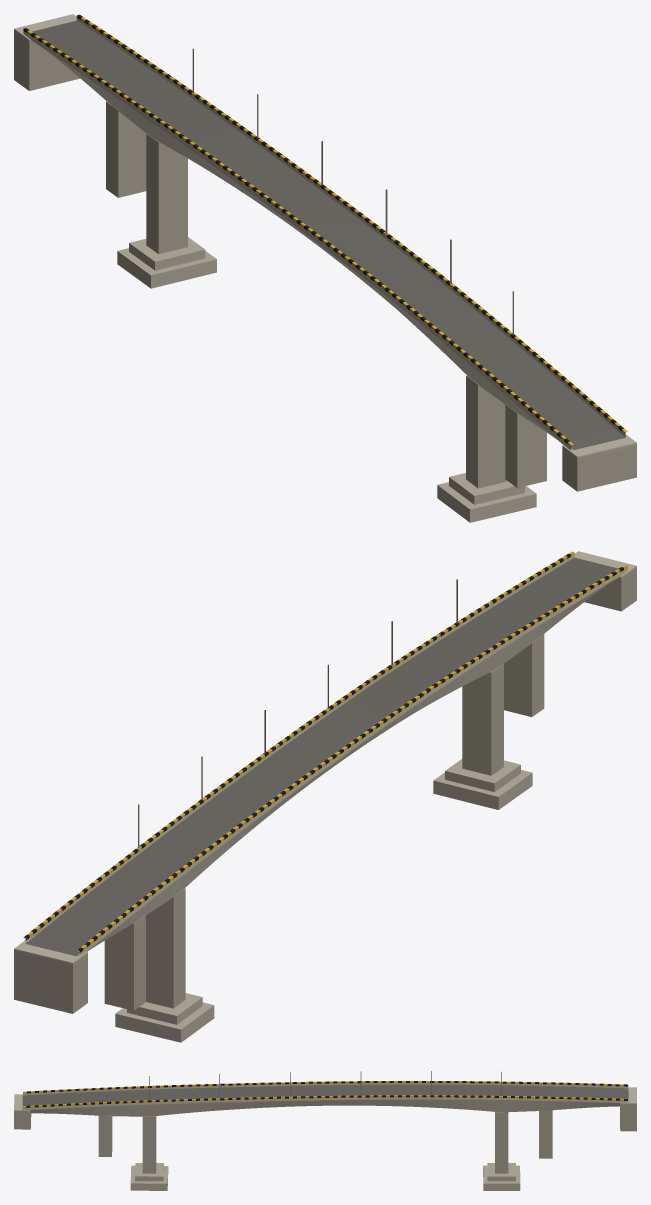
Rendered from kohala_bridge.glb.
3 renders of one model, top to bottom at view 1: azimuth 30°, elevation 25°; view 2: azimuth 150°, elevation 25°; view 3: azimuth 270°, elevation 25°, orthographic. The views are drawn at different scales.
Parts seen in each view (by area): view 1: m_road_surface, m_pier_concrete, m_plinth_concrete, m_girder_concrete, m_parapet, m_hazard_black, m_hazard_yellow; view 2: m_road_surface, m_pier_concrete, m_girder_concrete, m_plinth_concrete, m_parapet, m_hazard_black, m_hazard_yellow; view 3: m_road_surface, m_girder_concrete, m_pier_concrete, m_parapet, m_hazard_black, m_hazard_yellow, m_plinth_concrete.
Boxes of the visible parts, bbox=[...] form: m_road_surface: bbox=[32, 20, 624, 449]; m_pier_concrete: bbox=[14, 30, 636, 491]; m_plinth_concrete: bbox=[117, 237, 536, 522]; m_girder_concrete: bbox=[14, 14, 636, 458]; m_parapet: bbox=[23, 14, 626, 450]; m_hazard_black: bbox=[23, 14, 623, 443]; m_hazard_yellow: bbox=[27, 17, 627, 446]; m_road_surface: bbox=[26, 557, 617, 956]; m_pier_concrete: bbox=[14, 568, 636, 1013]; m_girder_concrete: bbox=[14, 551, 636, 964]; m_plinth_concrete: bbox=[115, 759, 532, 1042]; m_parapet: bbox=[23, 555, 627, 956]; m_hazard_black: bbox=[24, 553, 623, 952]; m_hazard_yellow: bbox=[27, 551, 627, 949]; m_road_surface: bbox=[22, 1084, 628, 1105]; m_girder_concrete: bbox=[14, 1085, 636, 1116]; m_pier_concrete: bbox=[14, 1103, 636, 1173]; m_parapet: bbox=[22, 1083, 628, 1109]; m_hazard_black: bbox=[26, 1081, 627, 1107]; m_hazard_yellow: bbox=[22, 1081, 623, 1107]; m_plinth_concrete: bbox=[130, 1163, 520, 1190].
Size of the model in its own units: 12.64 by 38.69 by 185.
